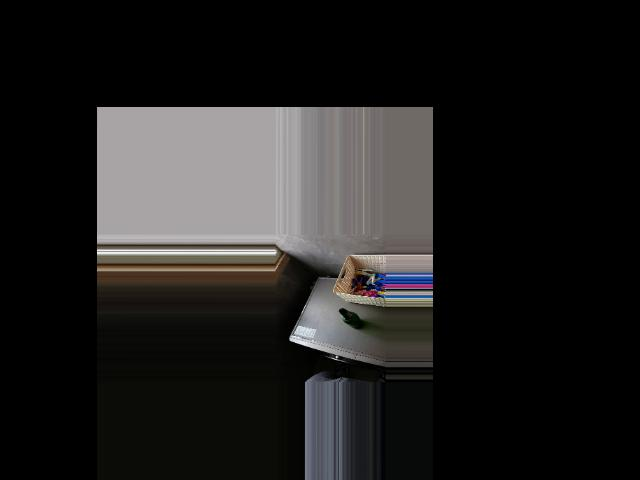beer: (338, 308, 363, 329)
